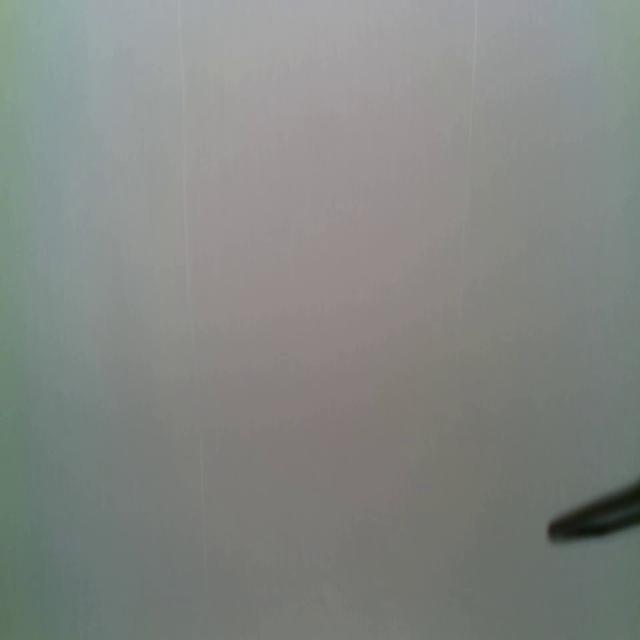crease: (454, 0, 480, 316), (177, 0, 192, 298), (197, 428, 210, 576)
